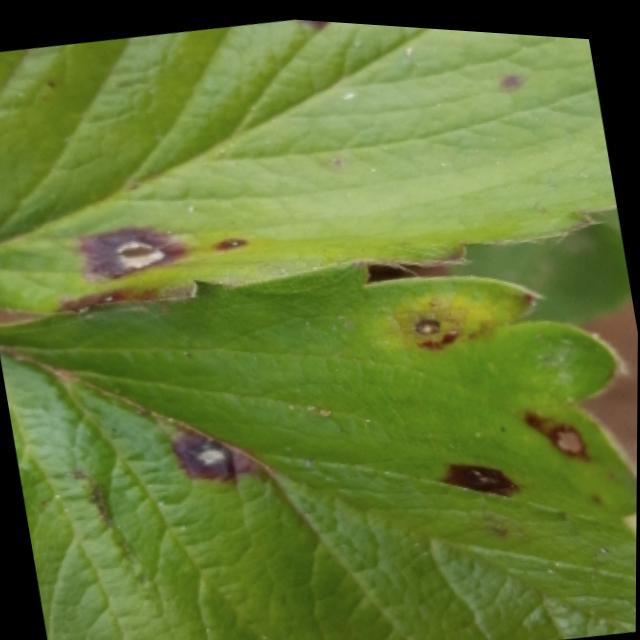Leaf Spot: (0, 254, 637, 640), (0, 15, 618, 313)
